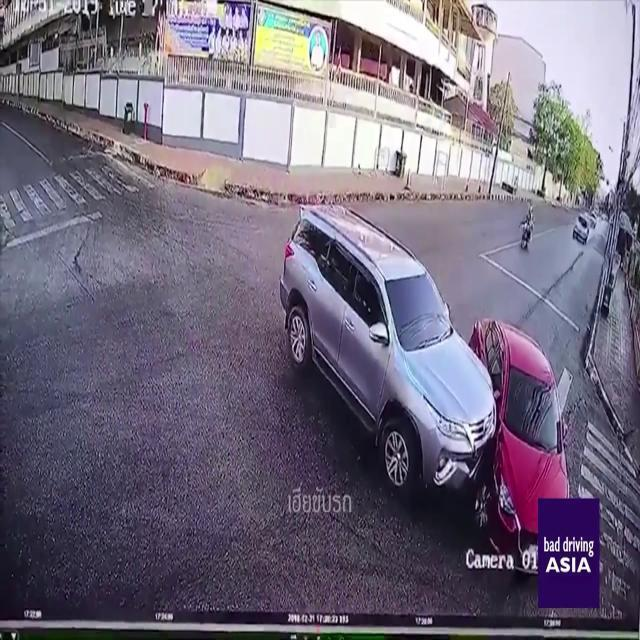accident: (276, 203, 576, 574)
non-accident: (572, 210, 598, 246)
